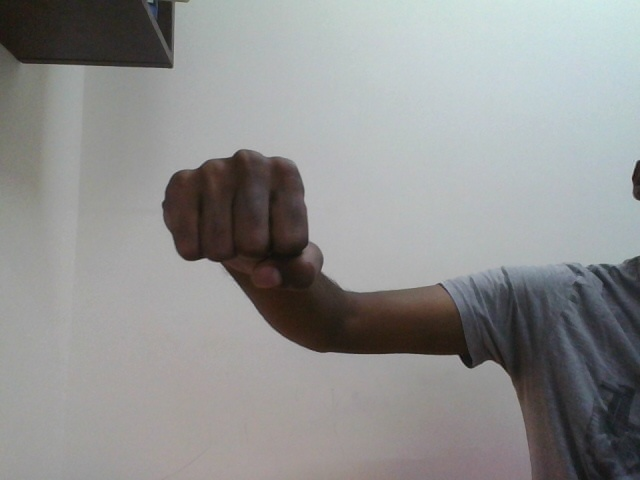Yes: (165, 149, 318, 289)
